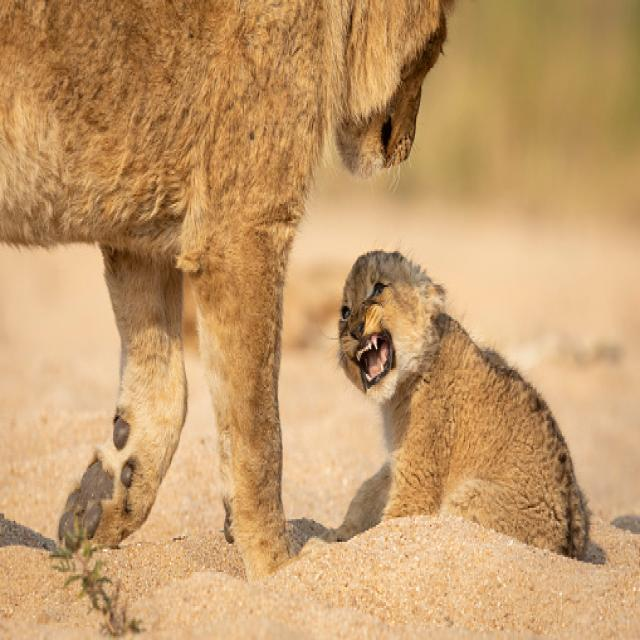Lion: (0, 0, 453, 578), (327, 251, 587, 559)
